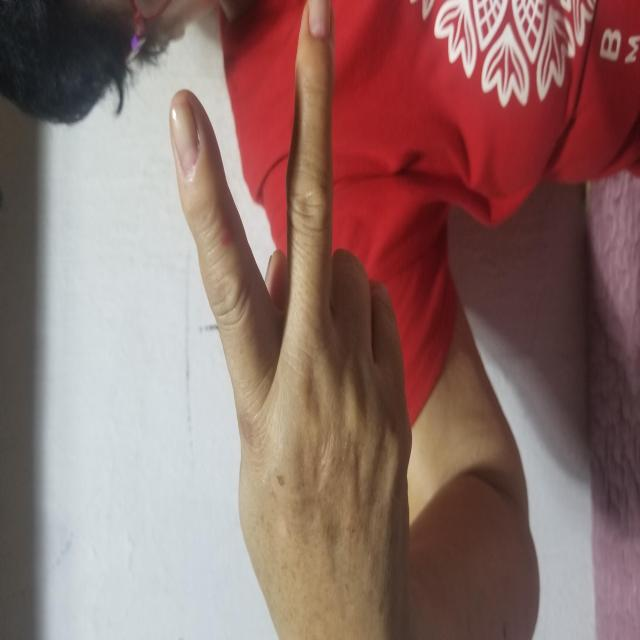K: (81, 167, 640, 411)
